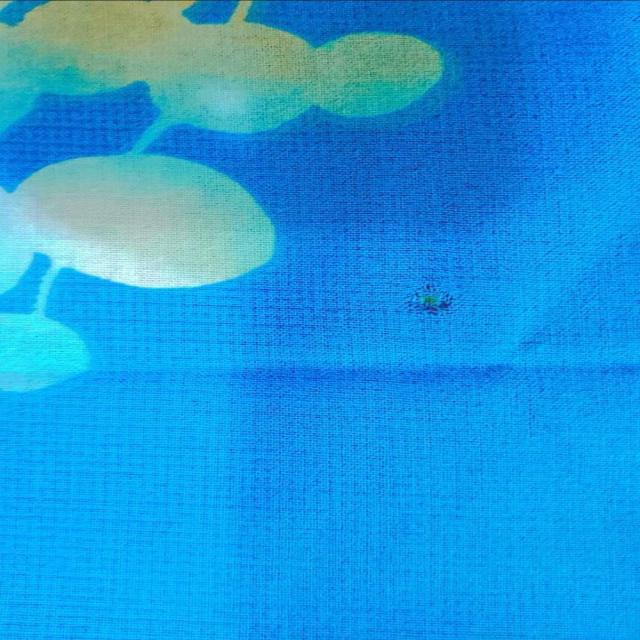cut: (398, 277, 468, 329)
